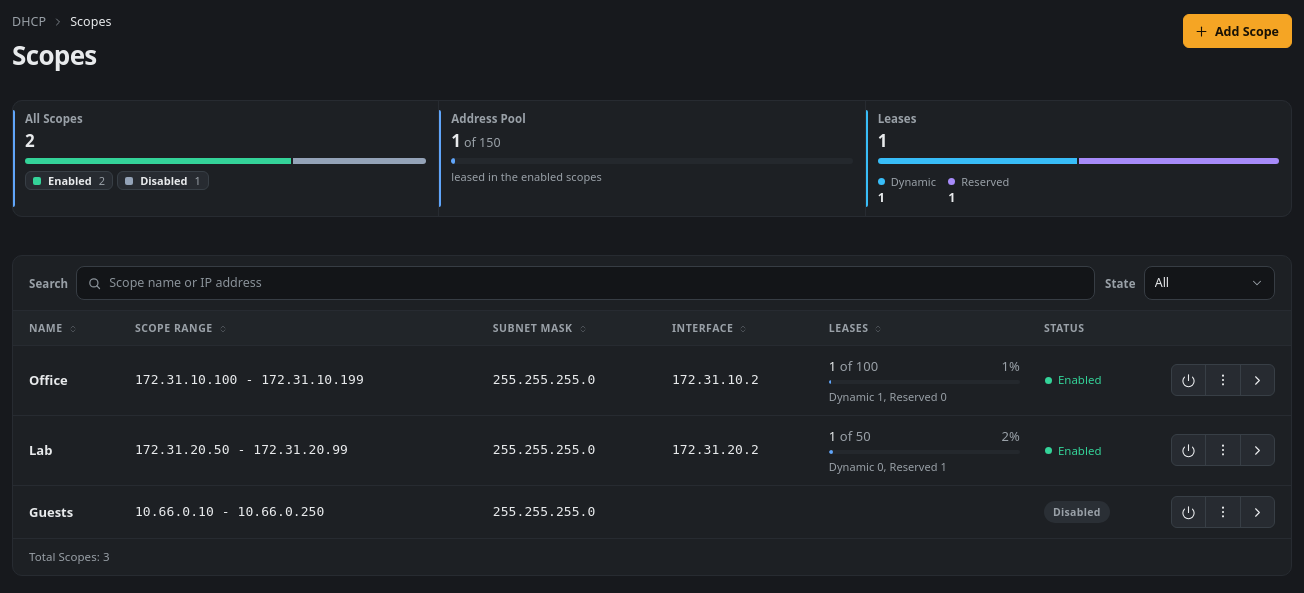
the scope list › pressing a state on All Scopes filters as the State field does, and pressing it again clears it
Expected: the text "Total Scopes: 3" is shown, [29,548,110,566]
Click the button "Disabled 1" at point(163, 180), box [117,171,209,190]
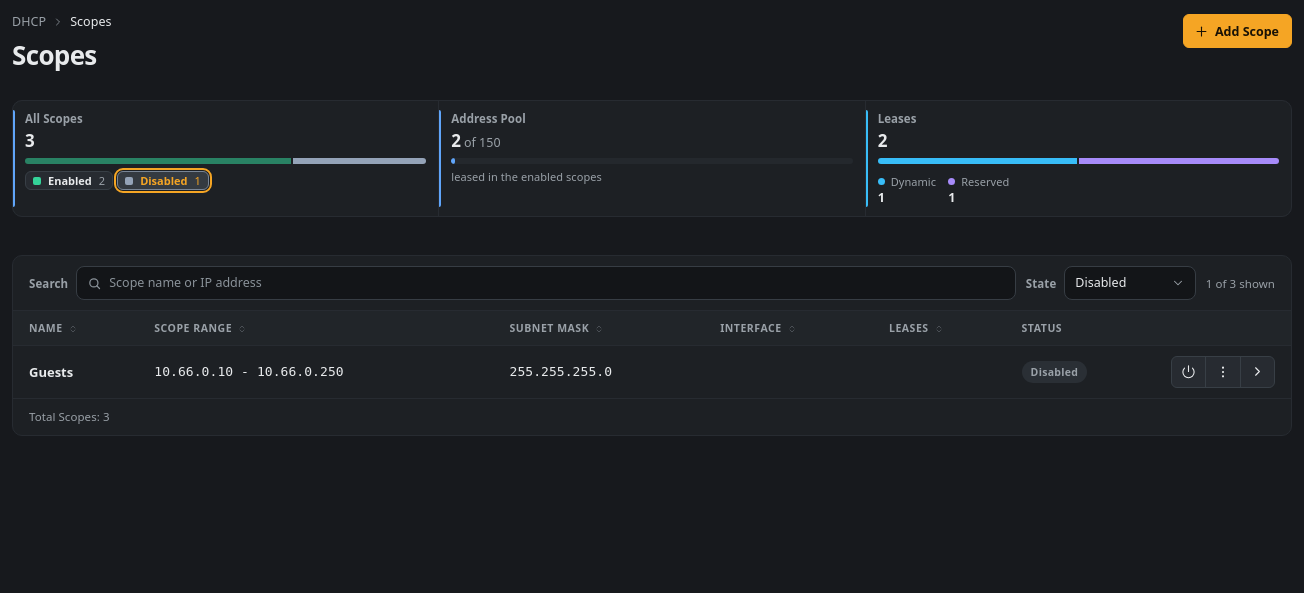
Expected: the button "Guests" is shown, [29,362,73,382]
Result: the dropdown named "State" reads "Disabled" at [1064,266,1196,300]
Result: the button "Office" is gone
Click the button "Disabled 1" at point(163, 180), box [117,171,209,190]
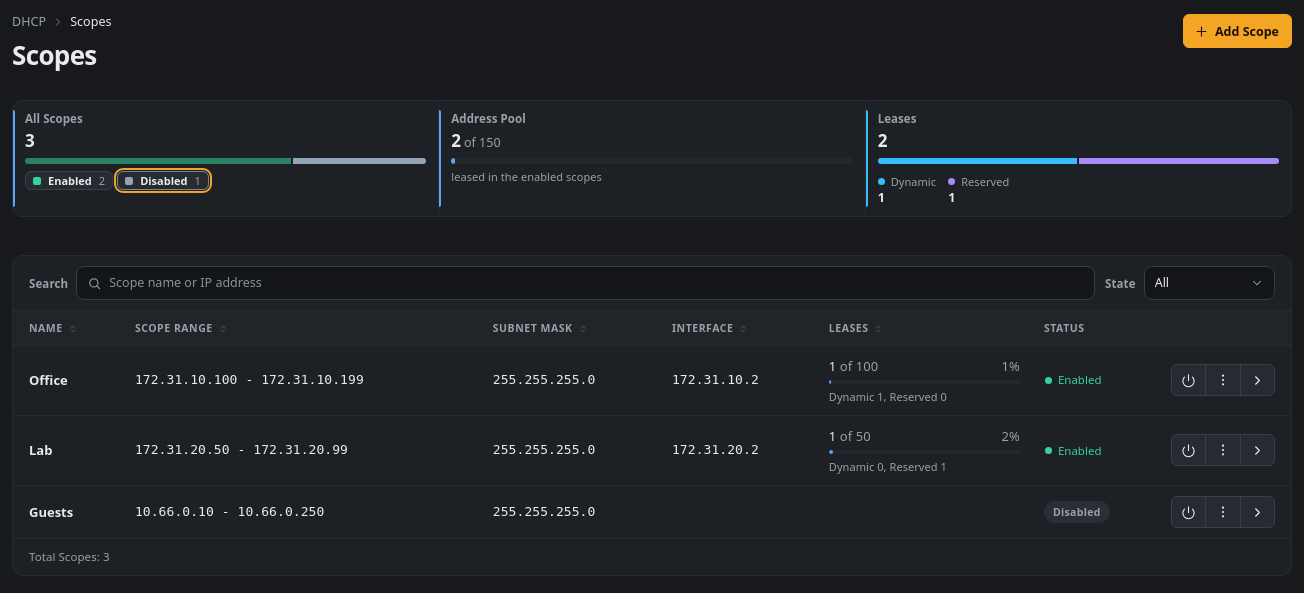
Result: the dropdown named "State" reads "All" at [1144,266,1275,300]
Result: the button "Office" is shown at [29,370,68,390]
